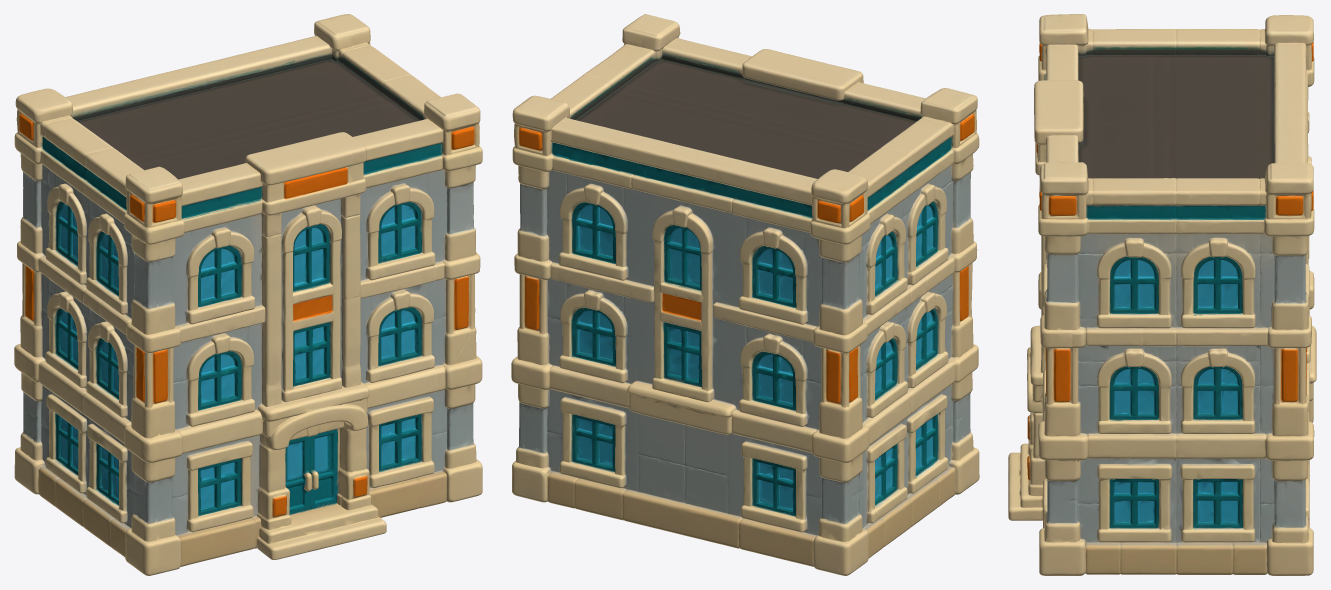
Rendered from StylizedBuilding.glb.
3 views of the same model, side by side, from view 1: azimuth 30°, elevation 25°; view 2: azimuth 150°, elevation 25°; view 3: azimuth 270°, elevation 25° (orthographic). The views are drawn at different scales.
Parts seen in each view (by area): view 1: tripo_node_02daf2ae-df28-423d-bfe5-b0db39074b21; view 2: tripo_node_02daf2ae-df28-423d-bfe5-b0db39074b21; view 3: tripo_node_02daf2ae-df28-423d-bfe5-b0db39074b21.
Boxes of the visible parts, x1,y1,x2,y2 form: tripo_node_02daf2ae-df28-423d-bfe5-b0db39074b21: (14, 14, 482, 575); tripo_node_02daf2ae-df28-423d-bfe5-b0db39074b21: (511, 14, 979, 575); tripo_node_02daf2ae-df28-423d-bfe5-b0db39074b21: (1008, 14, 1316, 575).
Bounding box in the file's own units: 0.8961 × 0.9802 × 0.688.
1 material, 1 textured.
